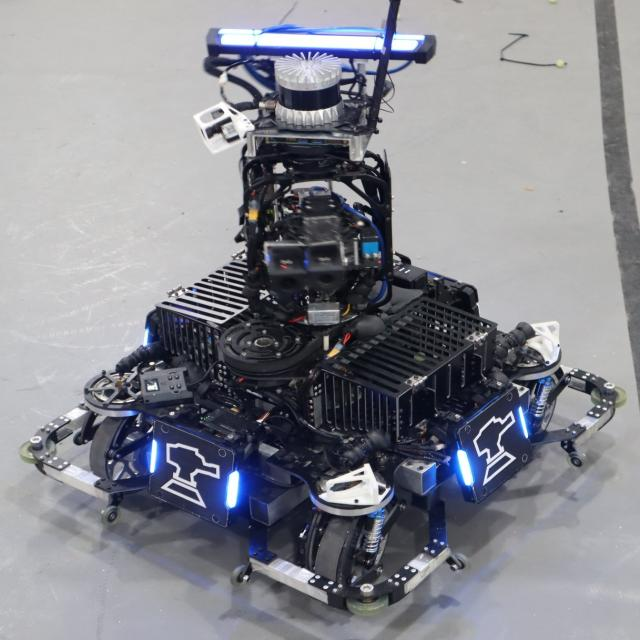Bs: (144, 415, 245, 534), (451, 390, 542, 503)
